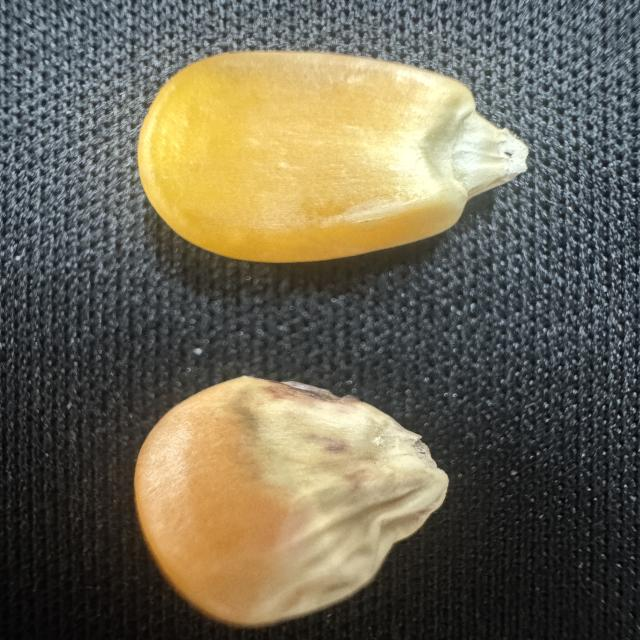Bad-Seed: (123, 368, 460, 628)
Good-Seed: (123, 42, 550, 266)
